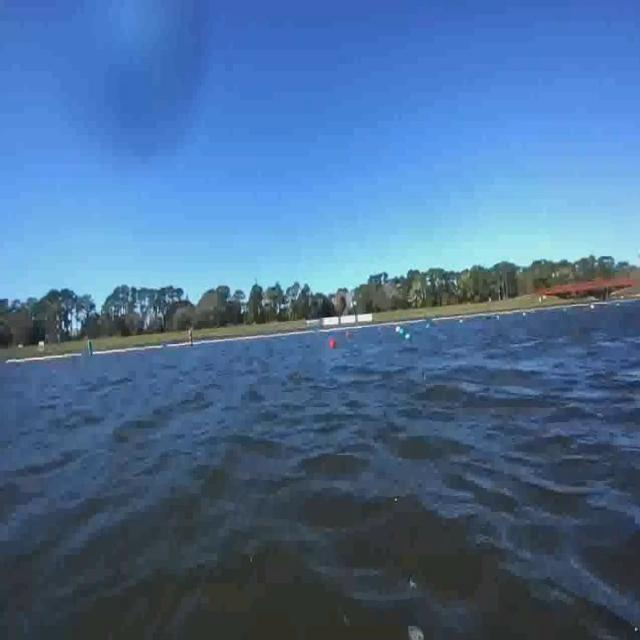red-buoy: (329, 339, 336, 348)
